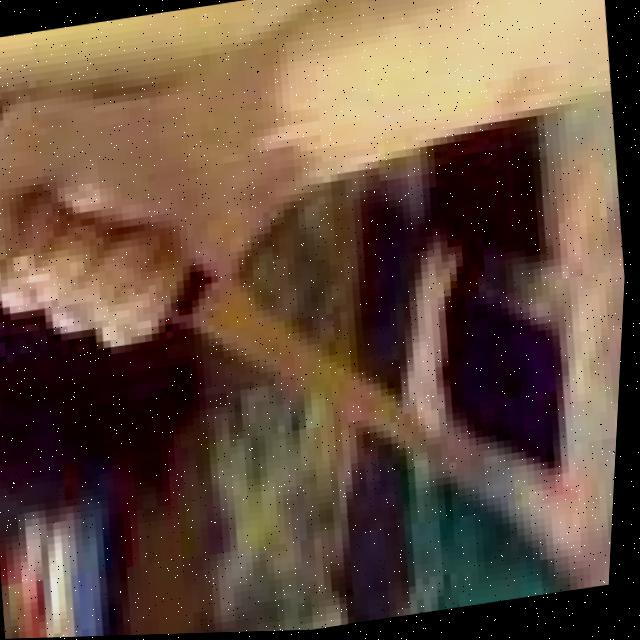knife: (174, 250, 522, 544)
